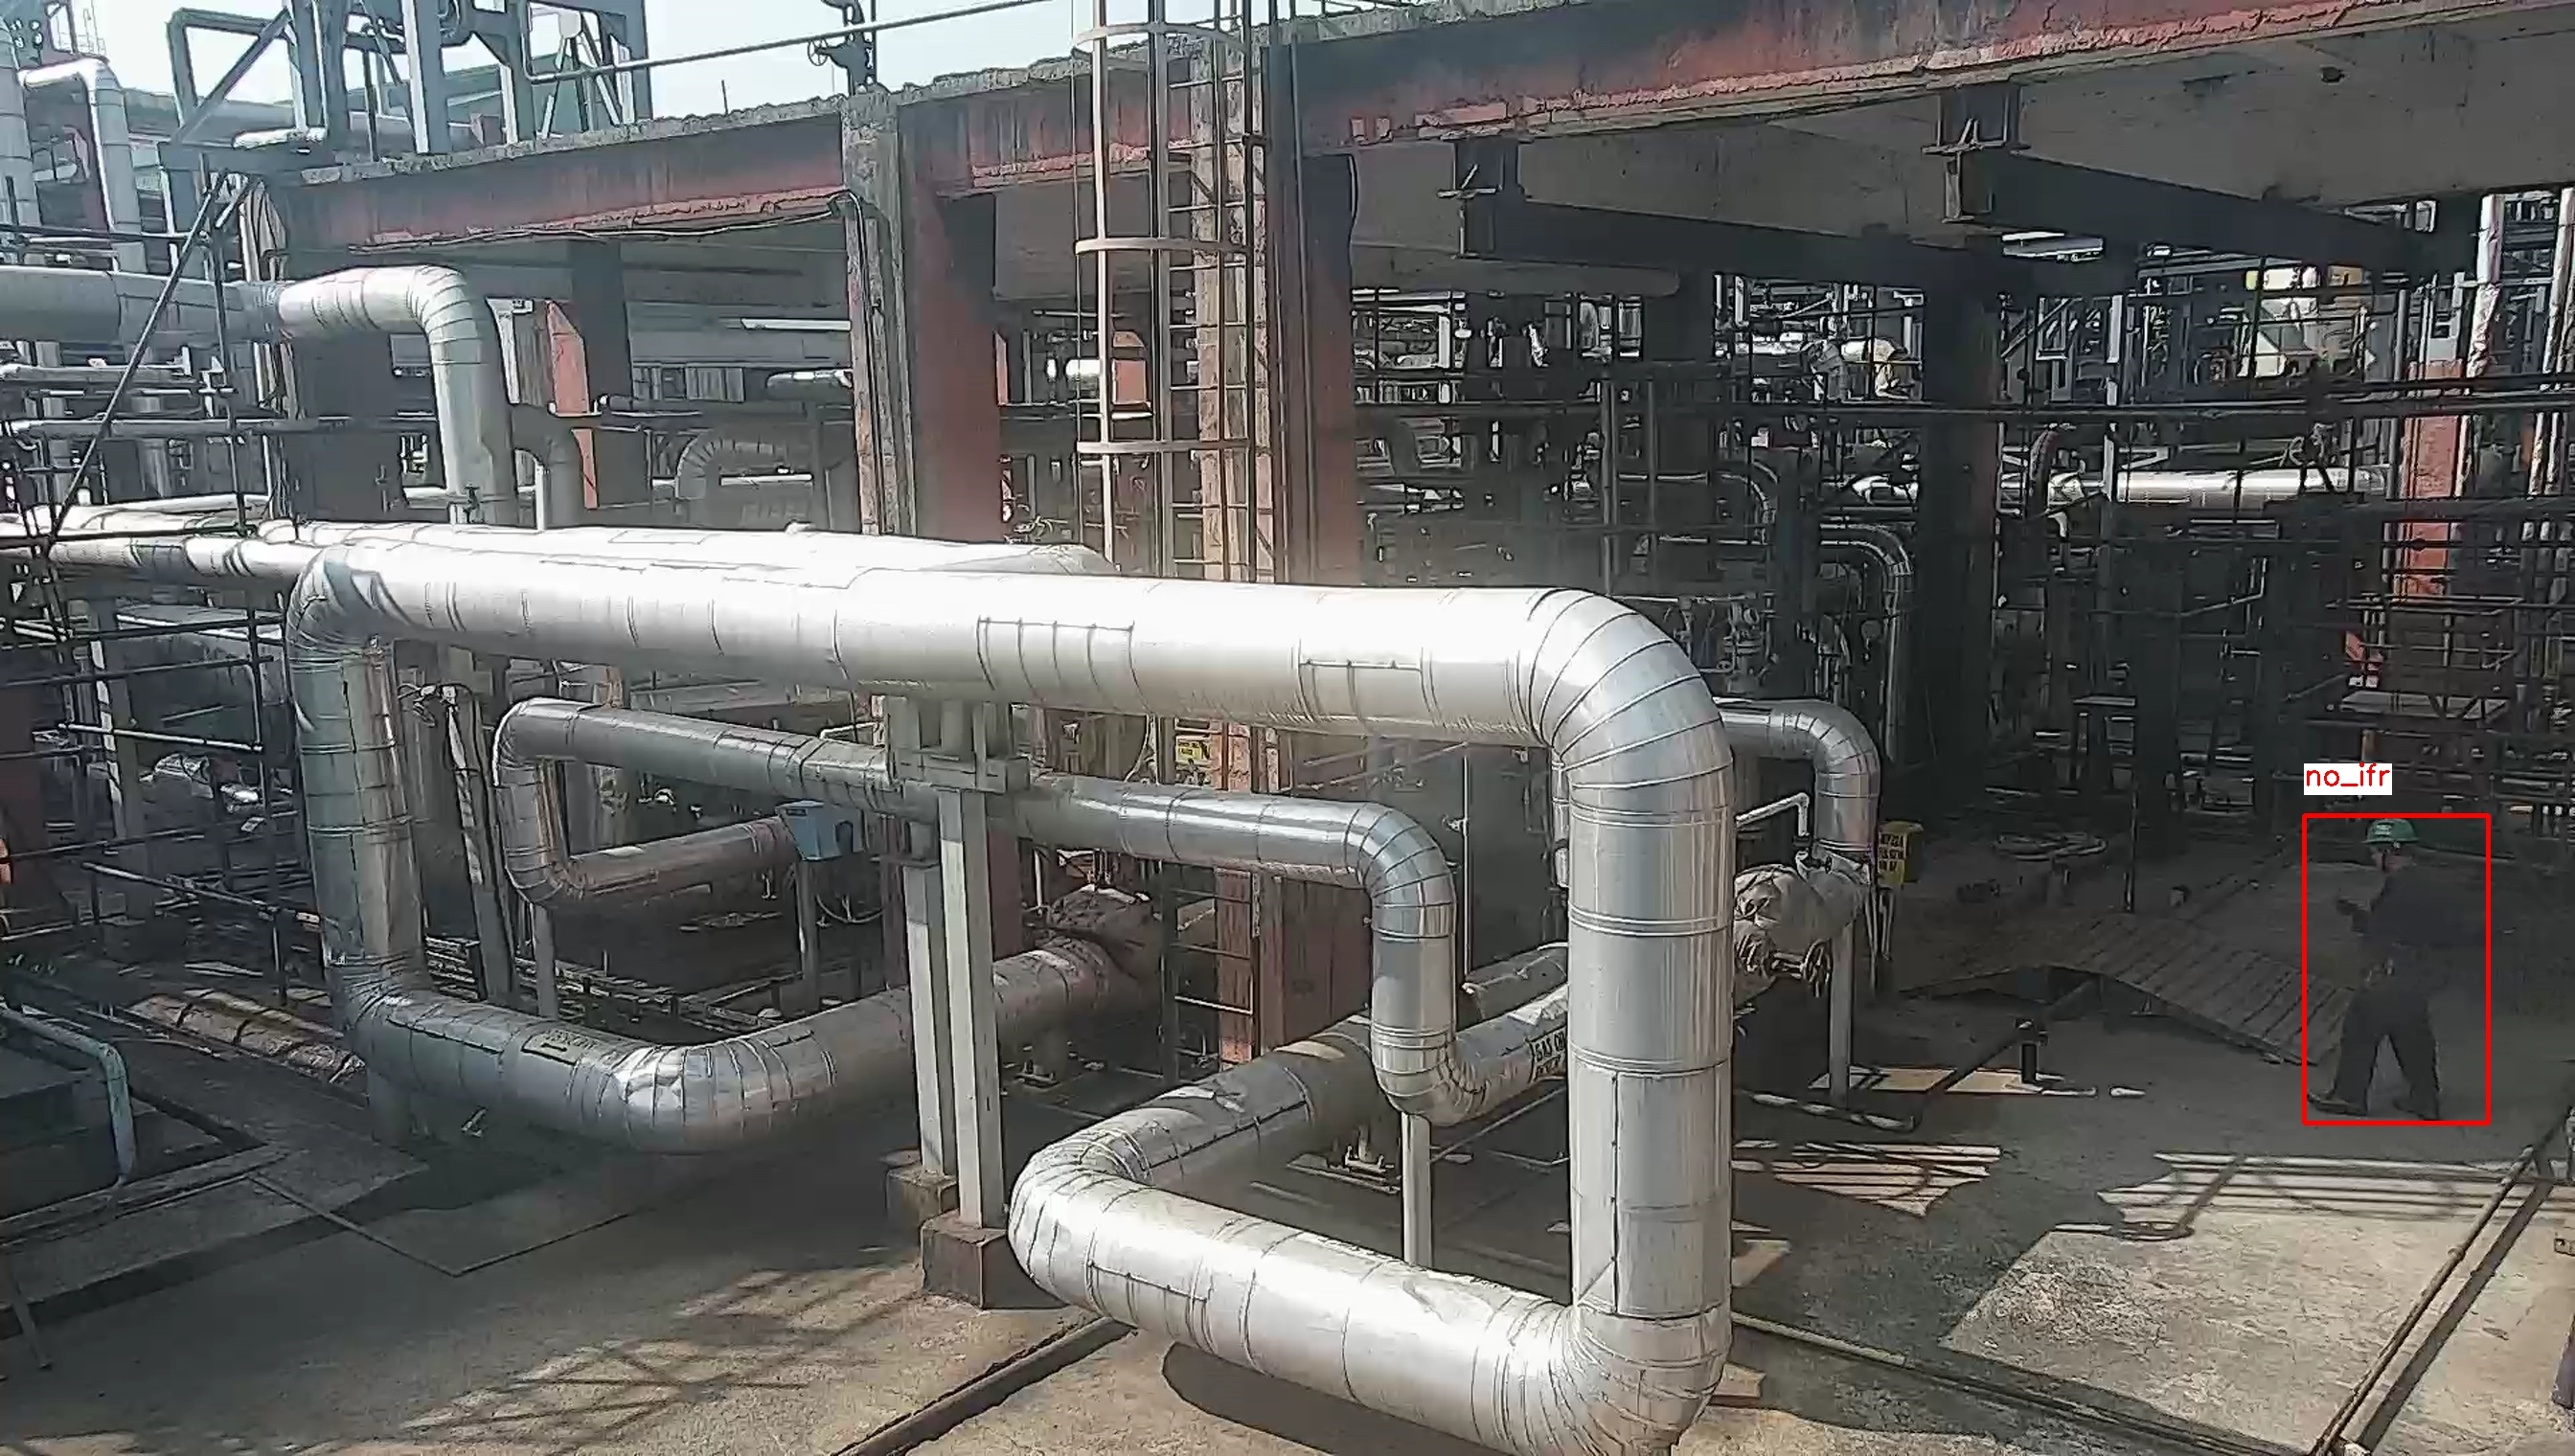Helmets: (2352, 817, 2434, 849)
